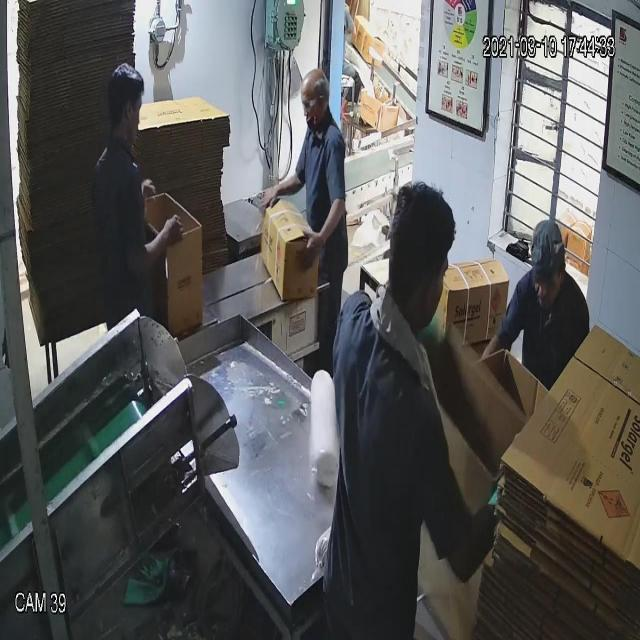No_Gloves: (50, 40, 322, 241)
